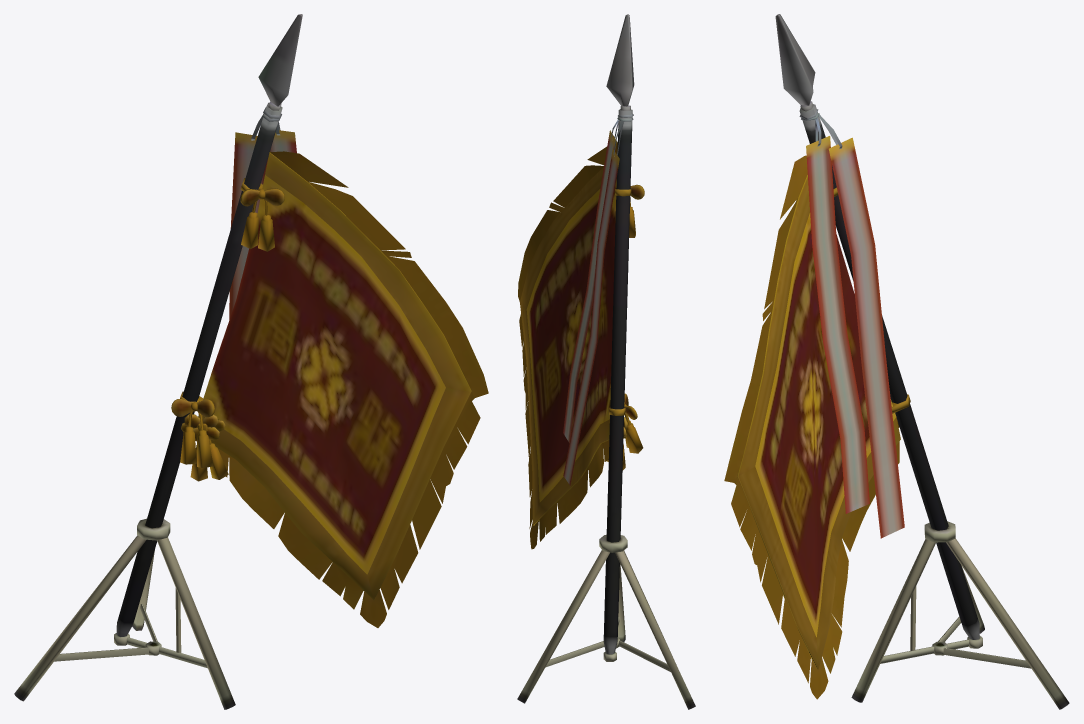
3 renders of one model, left to right at view 1: azimuth 30°, elevation 25°; view 2: azimuth 150°, elevation 25°; view 3: azimuth 270°, elevation 25°, orthographic. The views are drawn at different scales.
Bounding box in the file's own units: 9.86 × 19.7 × 8.76.
1 material, 1 textured.
